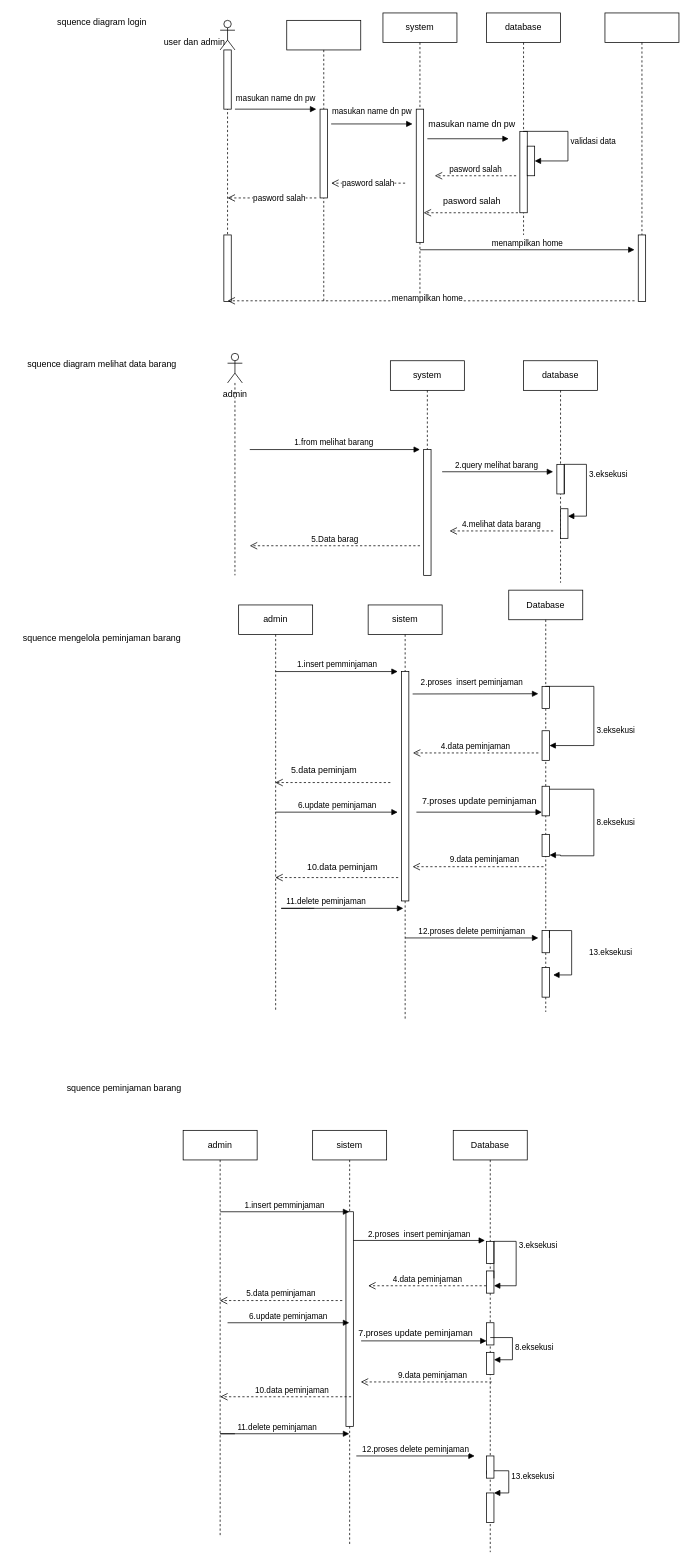
The diagram is 692 pixels wide and 1565 high, and some of its shapes have lost their labels. The shapes that lost their labels are listed below. From the top down, each one's box as (x1, y1, x2, y2) in pixels, then its label:
(604, 12, 679, 235): home
(286, 20, 361, 302): login
